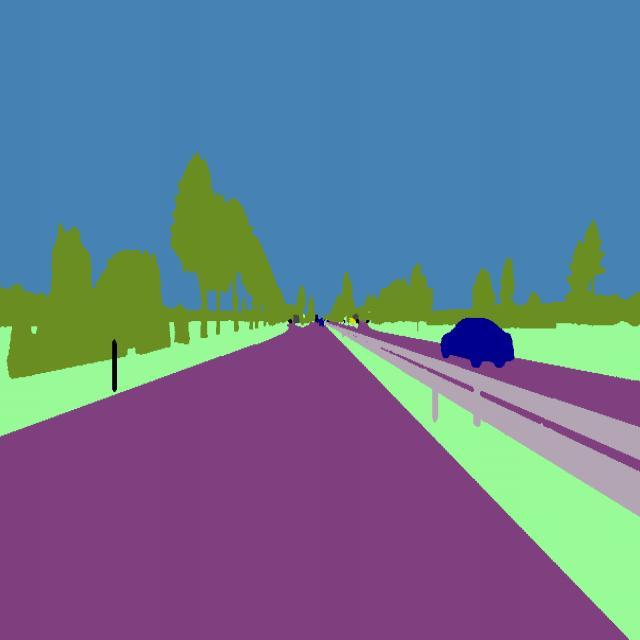safe: (434, 309, 520, 373)
